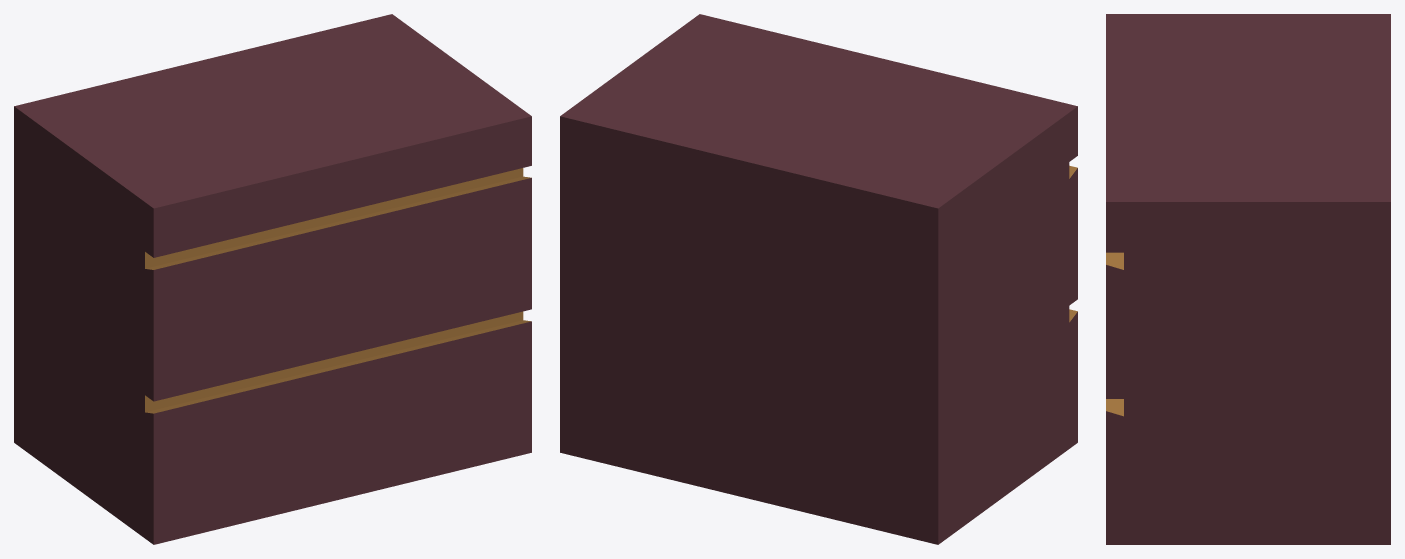
File: cabinet-bathroom.fbx
3 renders of one model, left to right at view 1: azimuth 30°, elevation 25°; view 2: azimuth 150°, elevation 25°; view 3: azimuth 270°, elevation 25°, orthographic.
Visible parts, largest first — view 1: cabinet-bathroom; view 2: cabinet-bathroom; view 3: cabinet-bathroom.
Part boxes in pixels (x1=…): cabinet-bathroom: x1=14, y1=14, x2=531, y2=544; cabinet-bathroom: x1=560, y1=14, x2=1077, y2=544; cabinet-bathroom: x1=1106, y1=14, x2=1390, y2=544.
Bounding box in the file's own units: 0.8 × 0.68 × 0.512.
